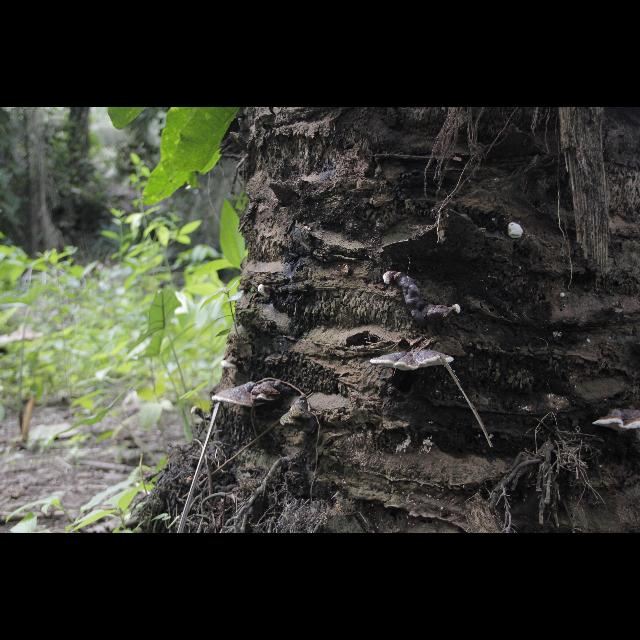ganoderma: (399, 272, 453, 327), (373, 349, 456, 373), (212, 382, 266, 408), (593, 409, 640, 434), (253, 380, 295, 402), (223, 358, 242, 370)
primordium: (508, 223, 524, 240), (384, 272, 399, 287), (259, 285, 274, 299), (191, 407, 203, 418), (453, 305, 462, 316), (561, 293, 567, 299)
